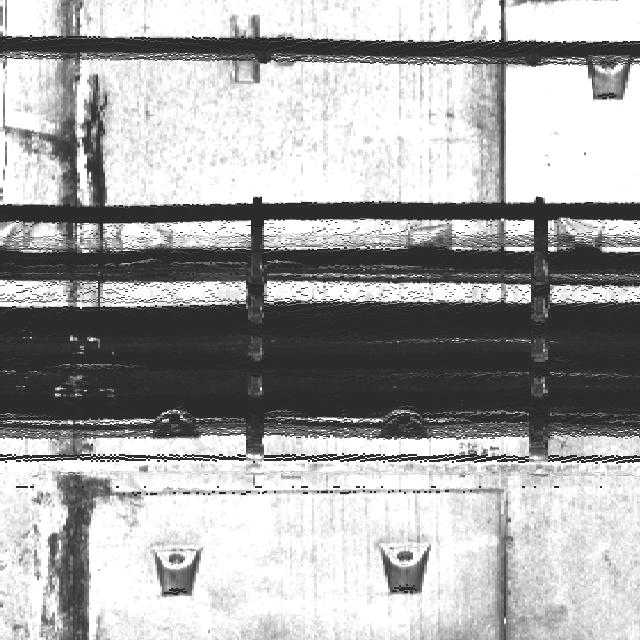leakage: (43, 1, 122, 282), (30, 438, 112, 640)
